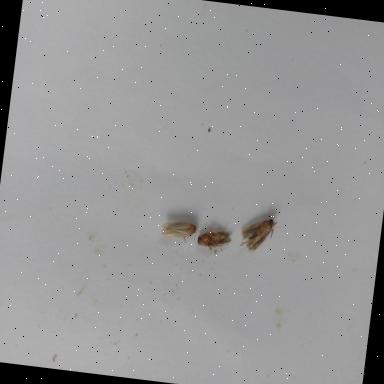pbw: (238, 210, 278, 253), (160, 214, 201, 245), (195, 226, 232, 250)
